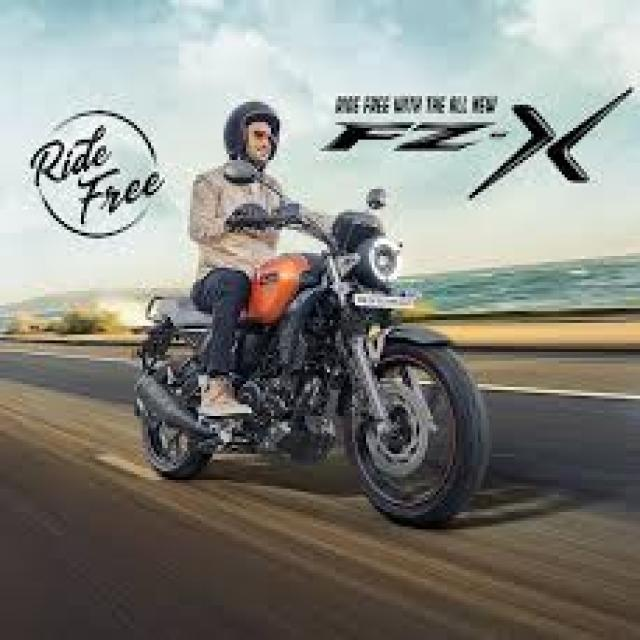bike: (134, 162, 494, 529)
